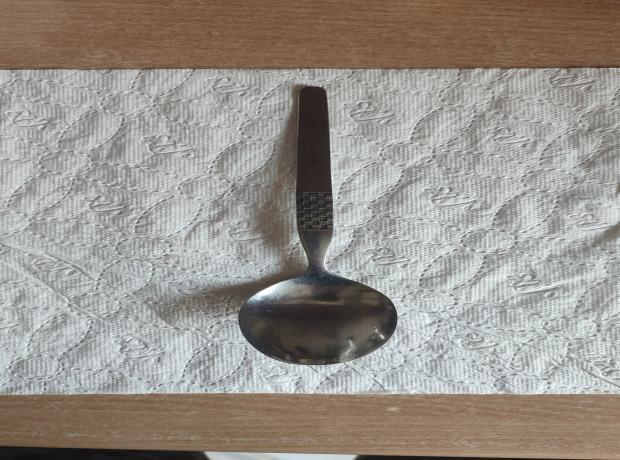metal: (237, 84, 399, 366)
